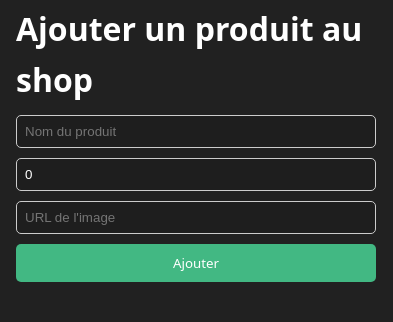
ProductForm.vue › Display error if submit fails
Type "Produit test" into the field with test id "product-name" at (196, 132), box left=16, top=115, right=376, bottom=148
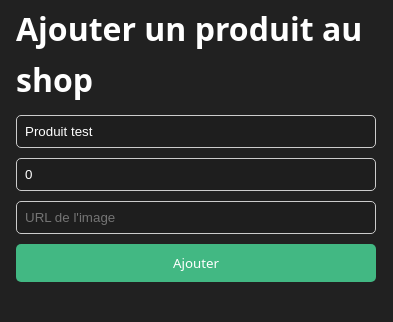
Replace the text in the number field with test id "product-price" with "10" at (196, 175), box left=16, top=158, right=376, bottom=191
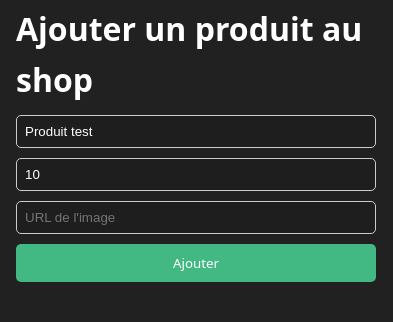
Type "/images/test.jpg" into the field with test id "product-image" at (196, 218), box left=16, top=201, right=376, bottom=234
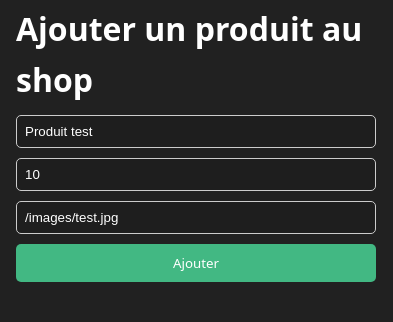
Submit the form, box left=16, top=115, right=376, bottom=282
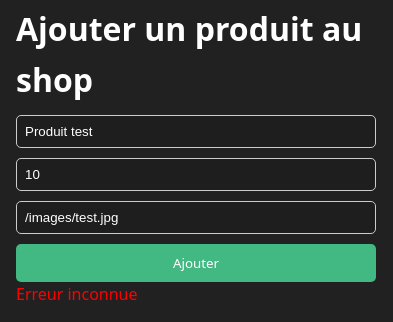
Check: the text "Erreur inconnue" is shown, box left=16, top=283, right=138, bottom=305
